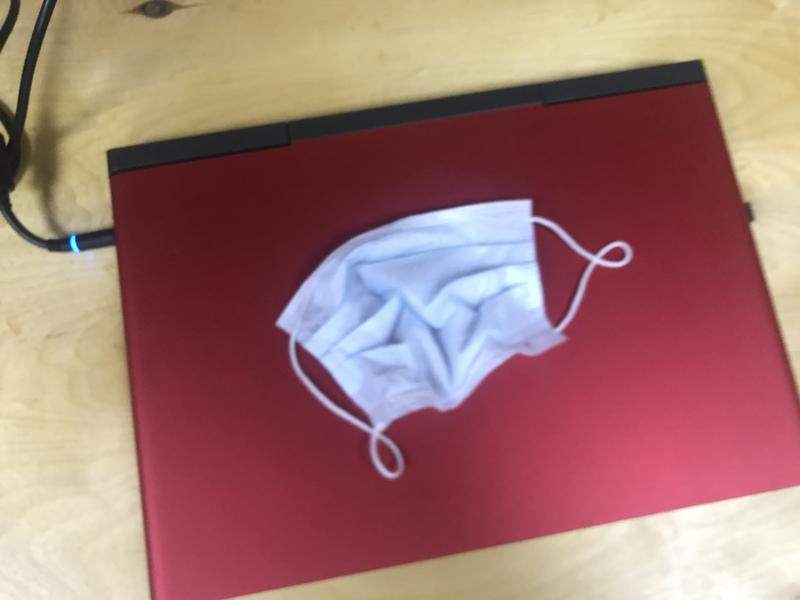medical_mask: (271, 197, 631, 480)
